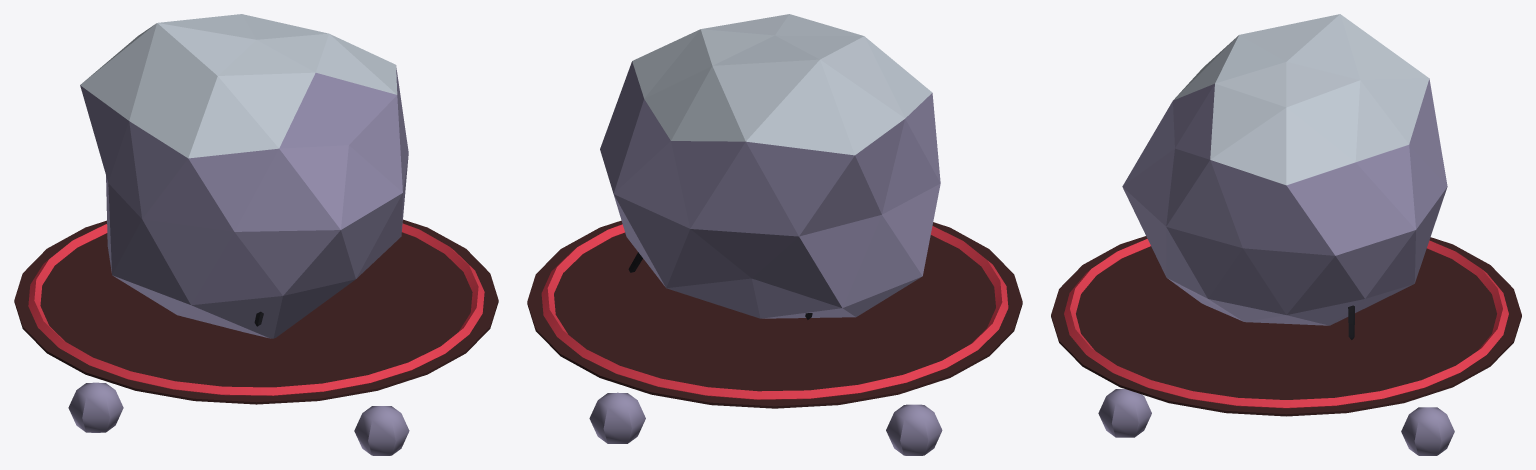
File: H20_FallingRock.fbx
3 renders of one model, left to right at view 1: azimuth 30°, elevation 25°; view 2: azimuth 150°, elevation 25°; view 3: azimuth 270°, elevation 25°, orthographic. The views are drawn at different scales.
Visible parts, largest first — view 1: Rock, Static; view 2: Rock, Static; view 3: Rock, Static.
Boxes of the visible parts, box(x1,y1,x2,y2) form: Rock: box(68, 14, 409, 455); Static: box(14, 219, 498, 404); Rock: box(589, 14, 942, 455); Static: box(527, 220, 1022, 408); Rock: box(1098, 14, 1454, 455); Static: box(1051, 236, 1521, 416).
Bounding box in the file's own units: 2.8 × 2.42 × 2.8.
